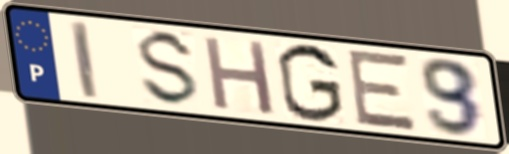9: (416, 56, 488, 140)
E: (346, 47, 420, 134)
G: (274, 41, 347, 125)
H: (200, 33, 278, 118)
I: (67, 17, 102, 102)
S: (137, 28, 203, 110)
